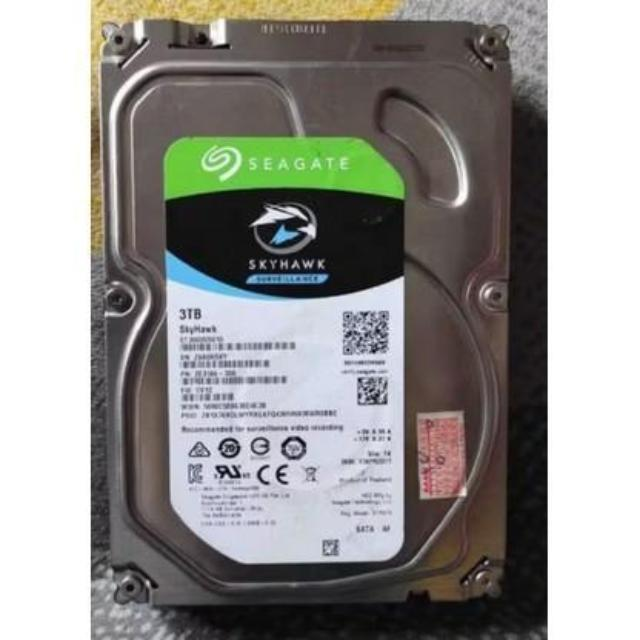DISK: (94, 10, 520, 608)
